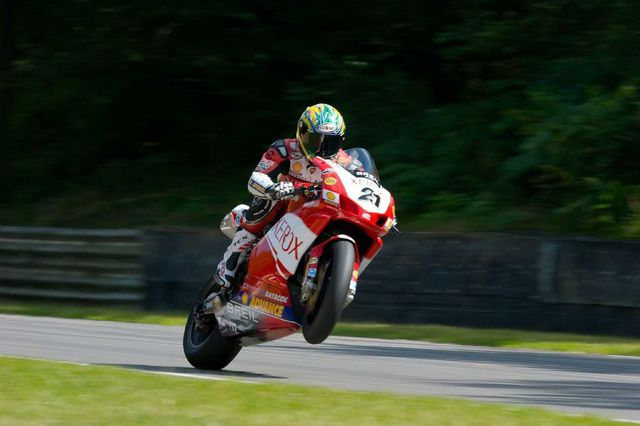helmet: (291, 102, 352, 160)
